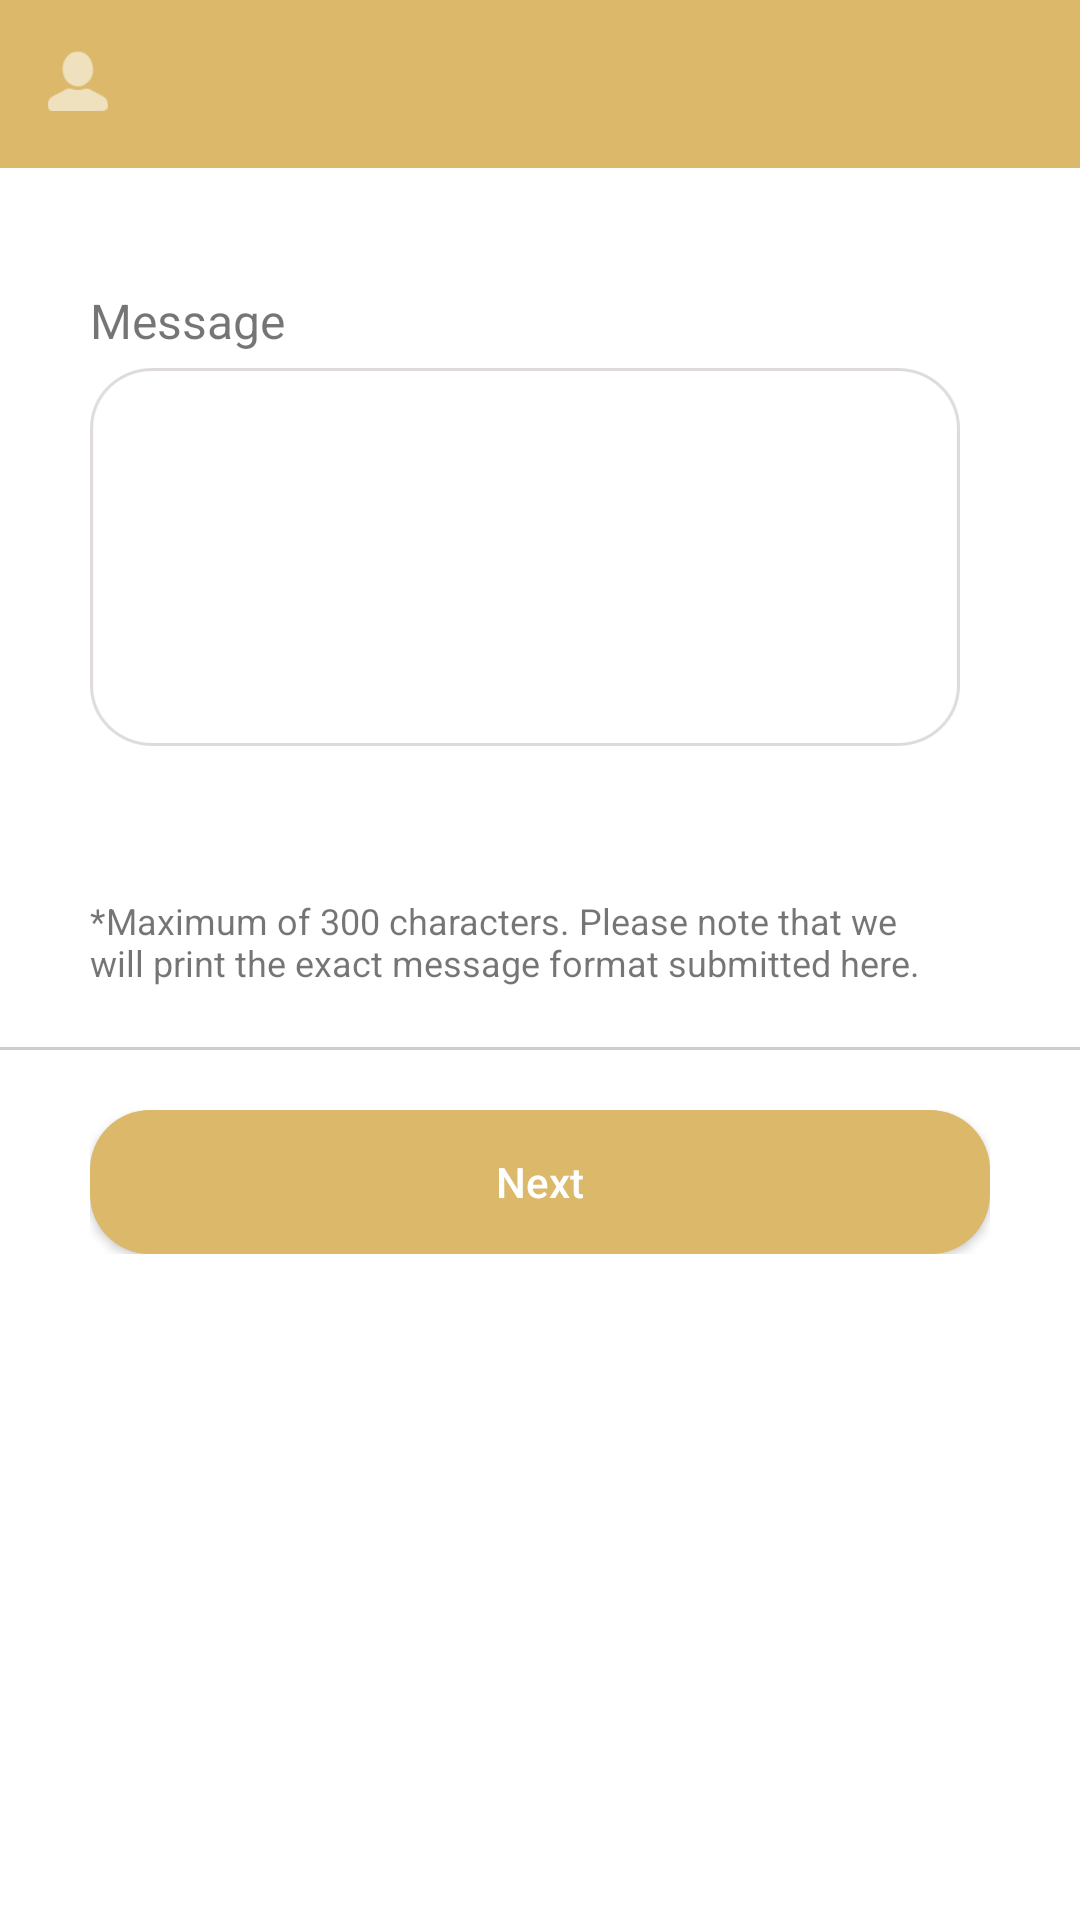

Named icons in this screenshot (1080w x 1920h) and their bounding boxes, (x1, y1, x2, y2):
profile: (48, 51, 108, 111)
